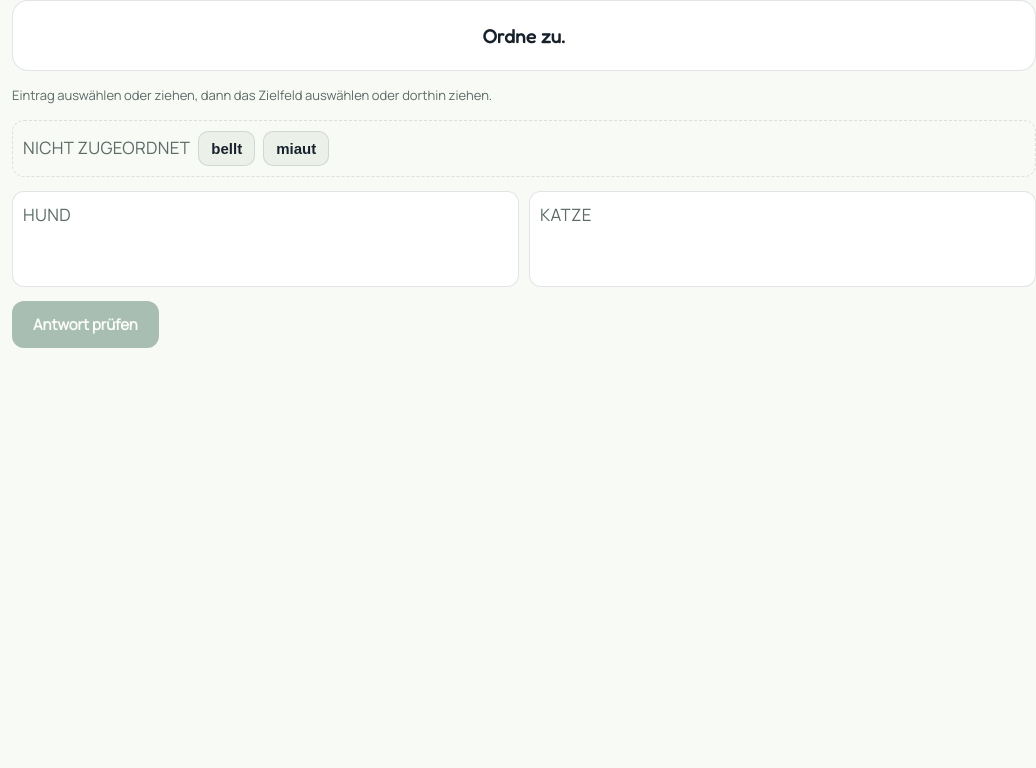
Test: MatchingStep: Rückmeldung mit Lösung › nennt bei falscher Zuordnung die richtige als „Begriff → Partner“ und zeigt die Erklärung
What coordinates should you click on to do the following:
click the button "bellt"
I would click on:
 (227, 148)
Its box is [198,131,255,166].
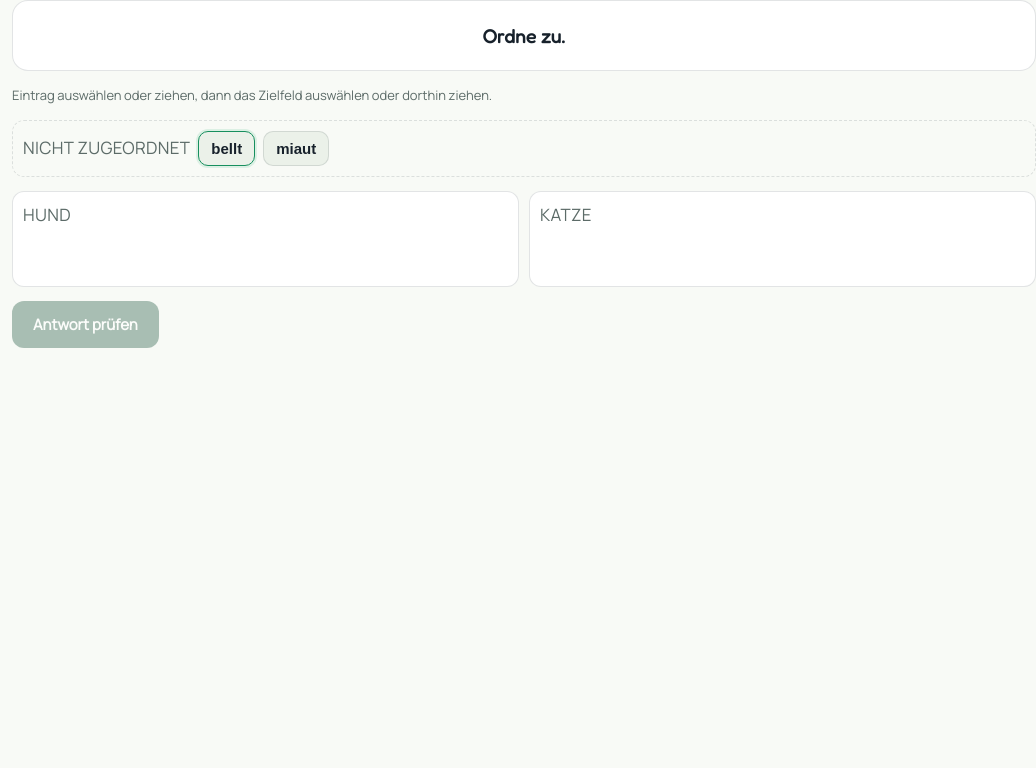
What coordinates should you click on to do the following:
click the button "Katze"
I would click on:
 (566, 214)
Its box is [540,202,1025,228].
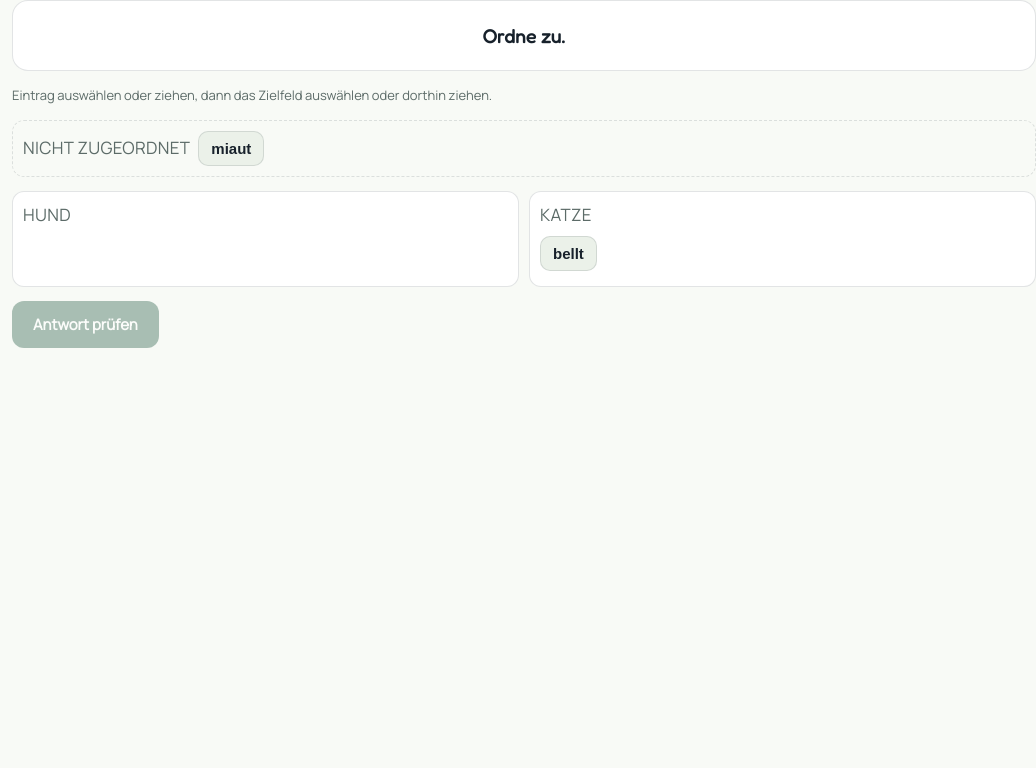
What coordinates should you click on to do the following:
click the button "miaut"
I would click on:
 (231, 148)
Its box is [198,131,264,166].
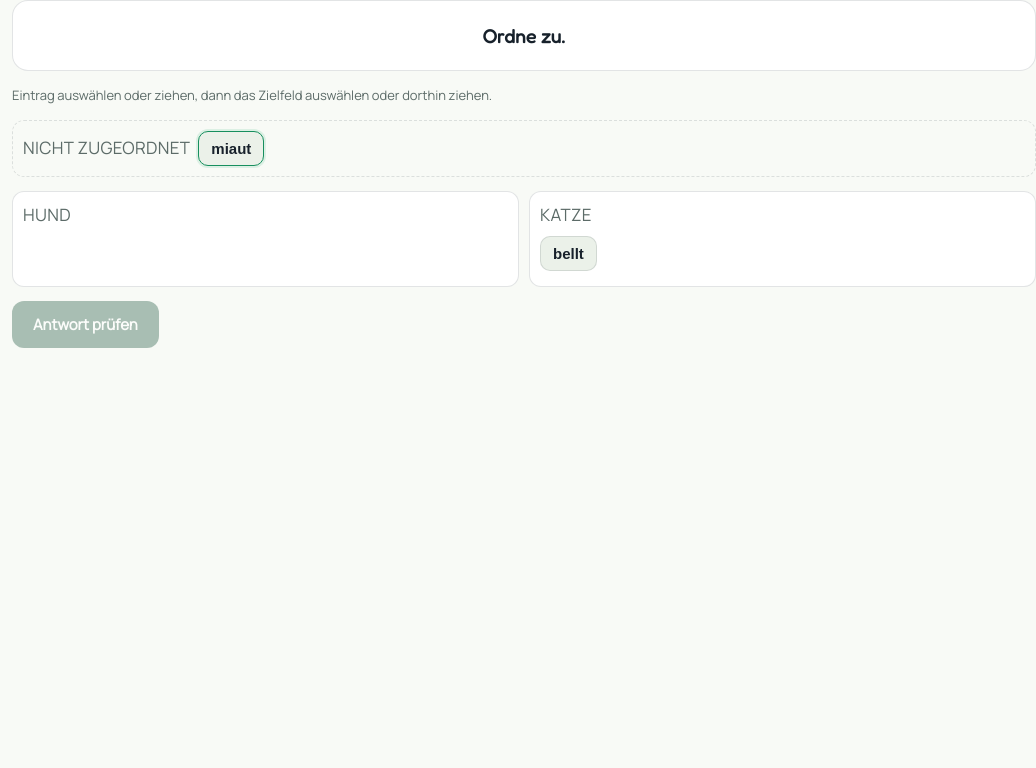
What coordinates should you click on to do the following:
click the button "Hund"
I would click on:
 (47, 214)
Its box is [23,202,508,228].
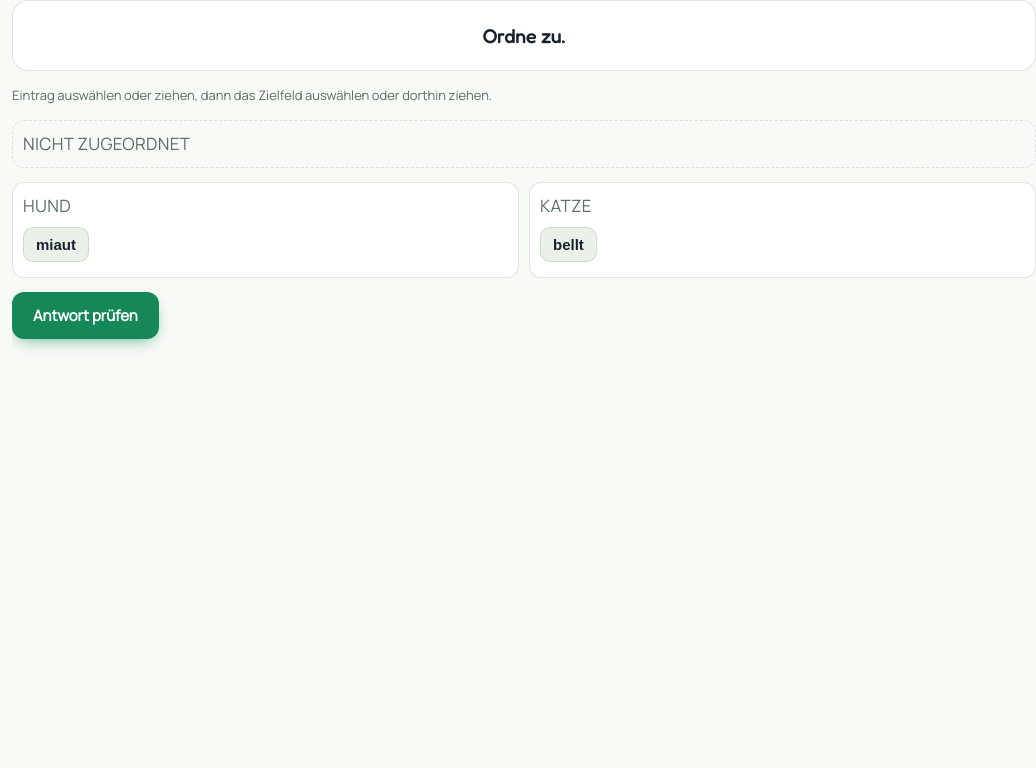
What coordinates should you click on to do the following:
click the button "Antwort prüfen"
I would click on:
 (85, 315)
Its box is [12,292,159,339].
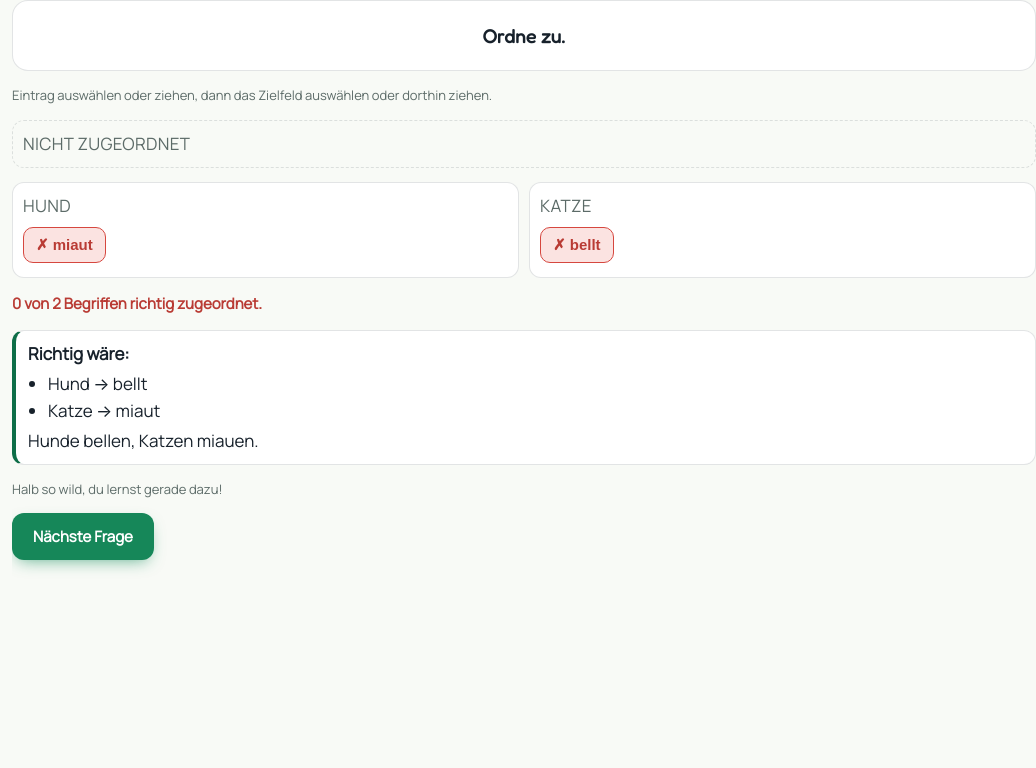
Now the text "0 von 2 Begriffen richtig zugeordnet." is shown, box [12,293,262,314]
Now the text "Richtig wäre:" is shown, box [28,342,129,365]
Now the text "Hund → bellt" is shown, box [48,372,148,395]
